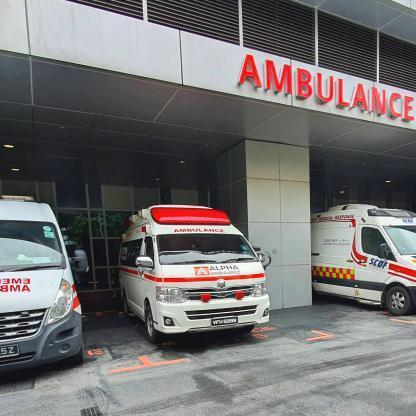Ambulance: (168, 224, 229, 237)
